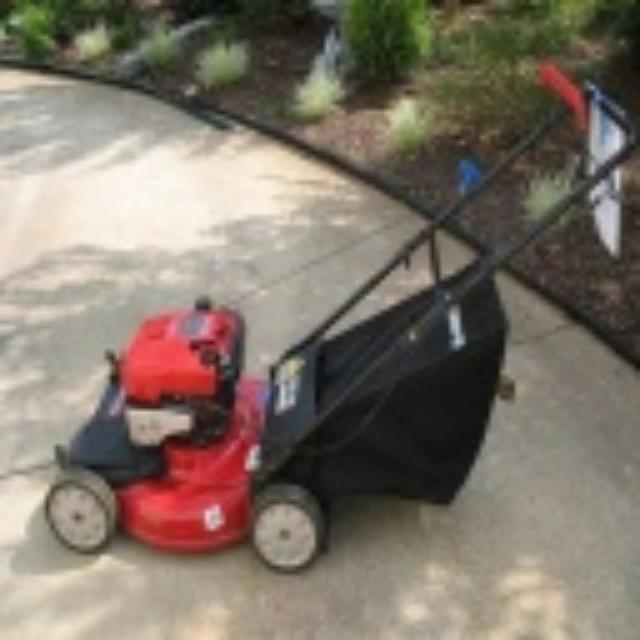Rotary-Mower: (35, 54, 635, 570)
